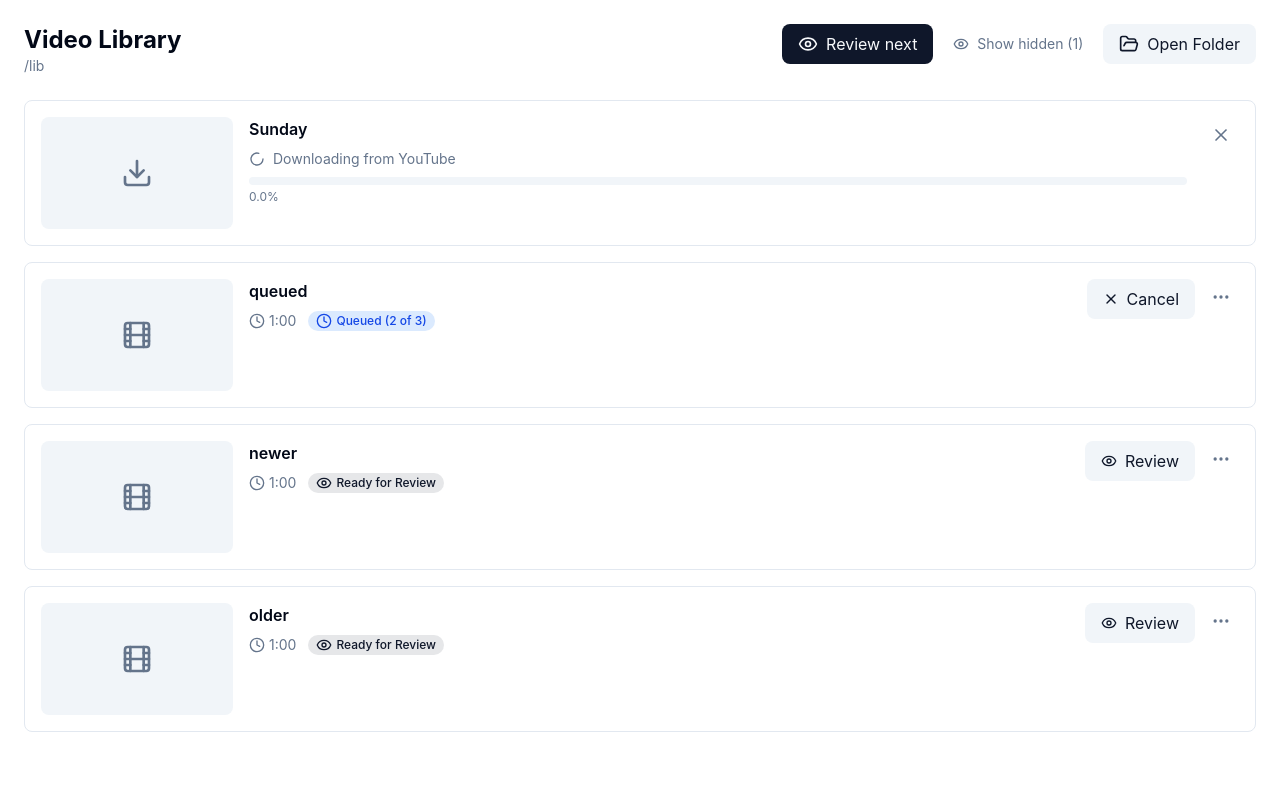
it: VideoLibrary › shows why a download couldn't be cancelled
Step 1. Click the button titled "Cancel download" → (1221, 135), box [1203,117,1239,153]
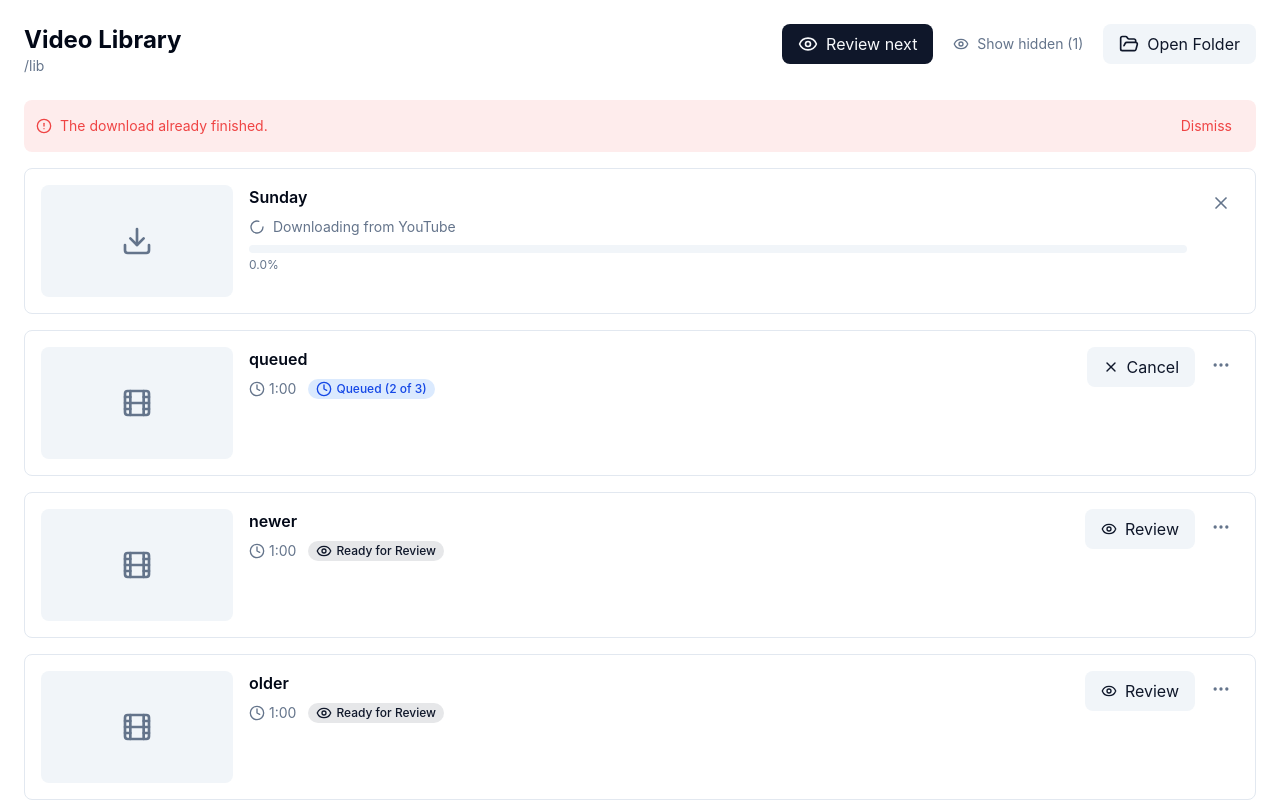
Expected: the text "The download already finished." is shown, [60,117,268,134]
